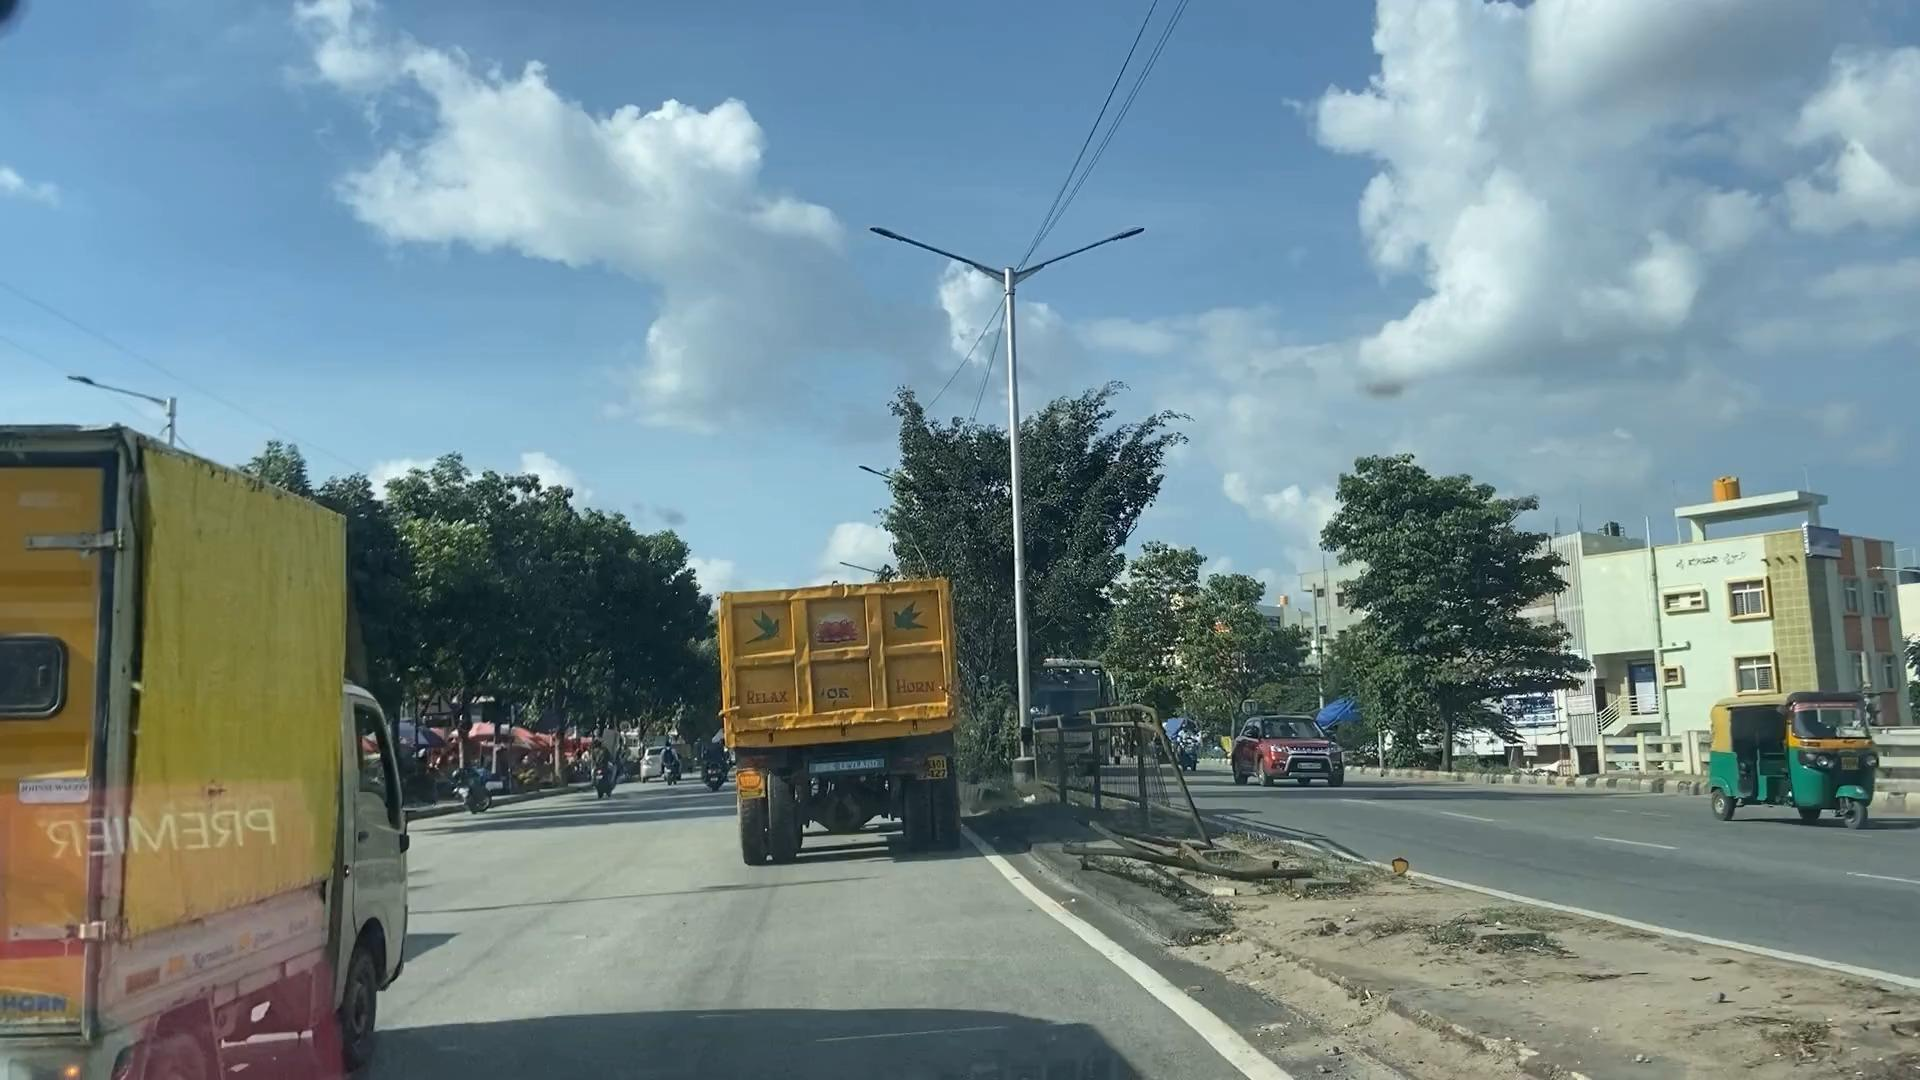HMV: (12, 418, 414, 1080), (723, 589, 993, 852)
RoadDamages: (771, 986, 1142, 1080)
